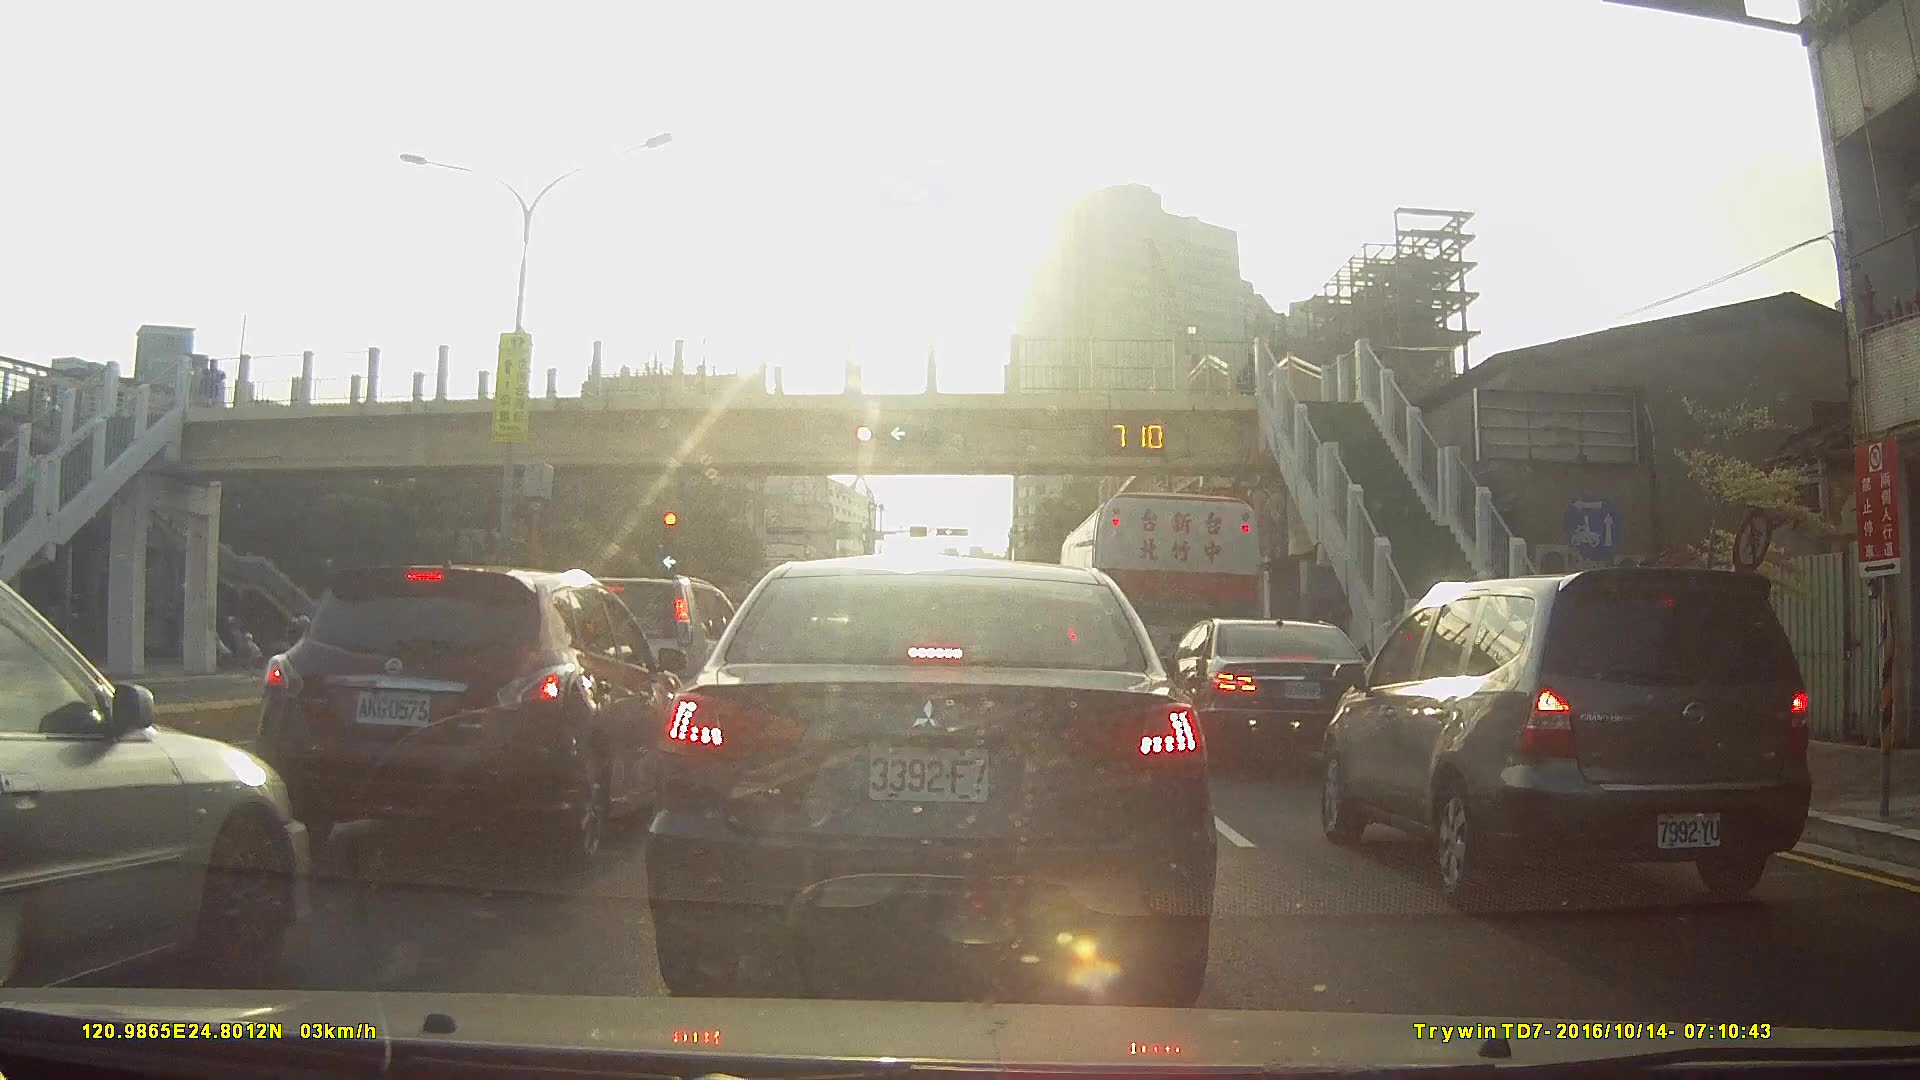pedestrian: (1237, 351, 1264, 408), (204, 361, 227, 411)
rider: (209, 614, 267, 669)
vehicle: (643, 552, 1218, 1004), (1312, 564, 1808, 910), (249, 561, 694, 868), (0, 572, 314, 1004), (1057, 489, 1260, 734), (1155, 615, 1383, 765)
